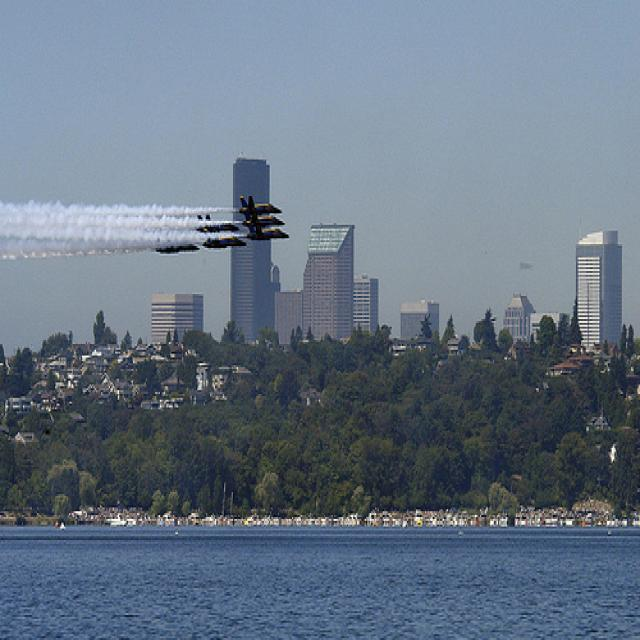aeroplane: (239, 195, 284, 218), (197, 213, 243, 234), (152, 239, 202, 257), (243, 213, 288, 232), (201, 235, 247, 251), (249, 228, 289, 241)
